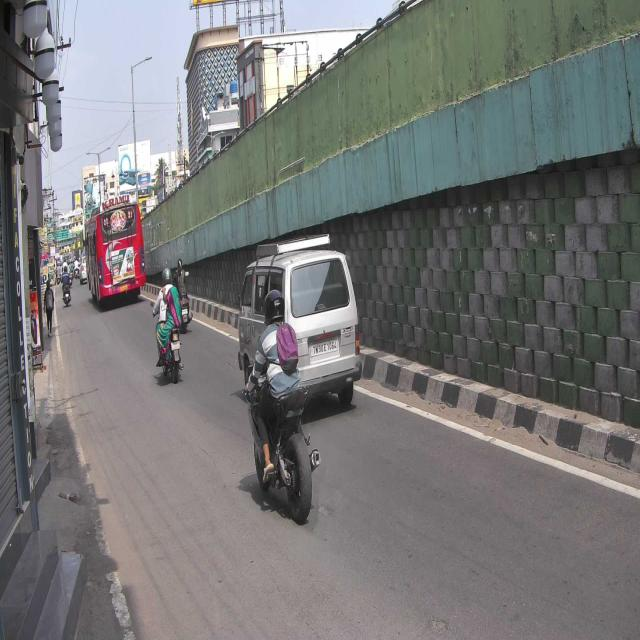single_rider: (244, 288, 322, 529)
